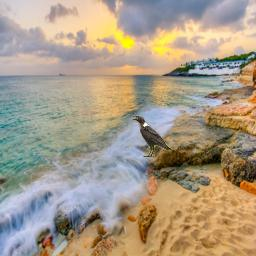Crow: (132, 115, 172, 157)
